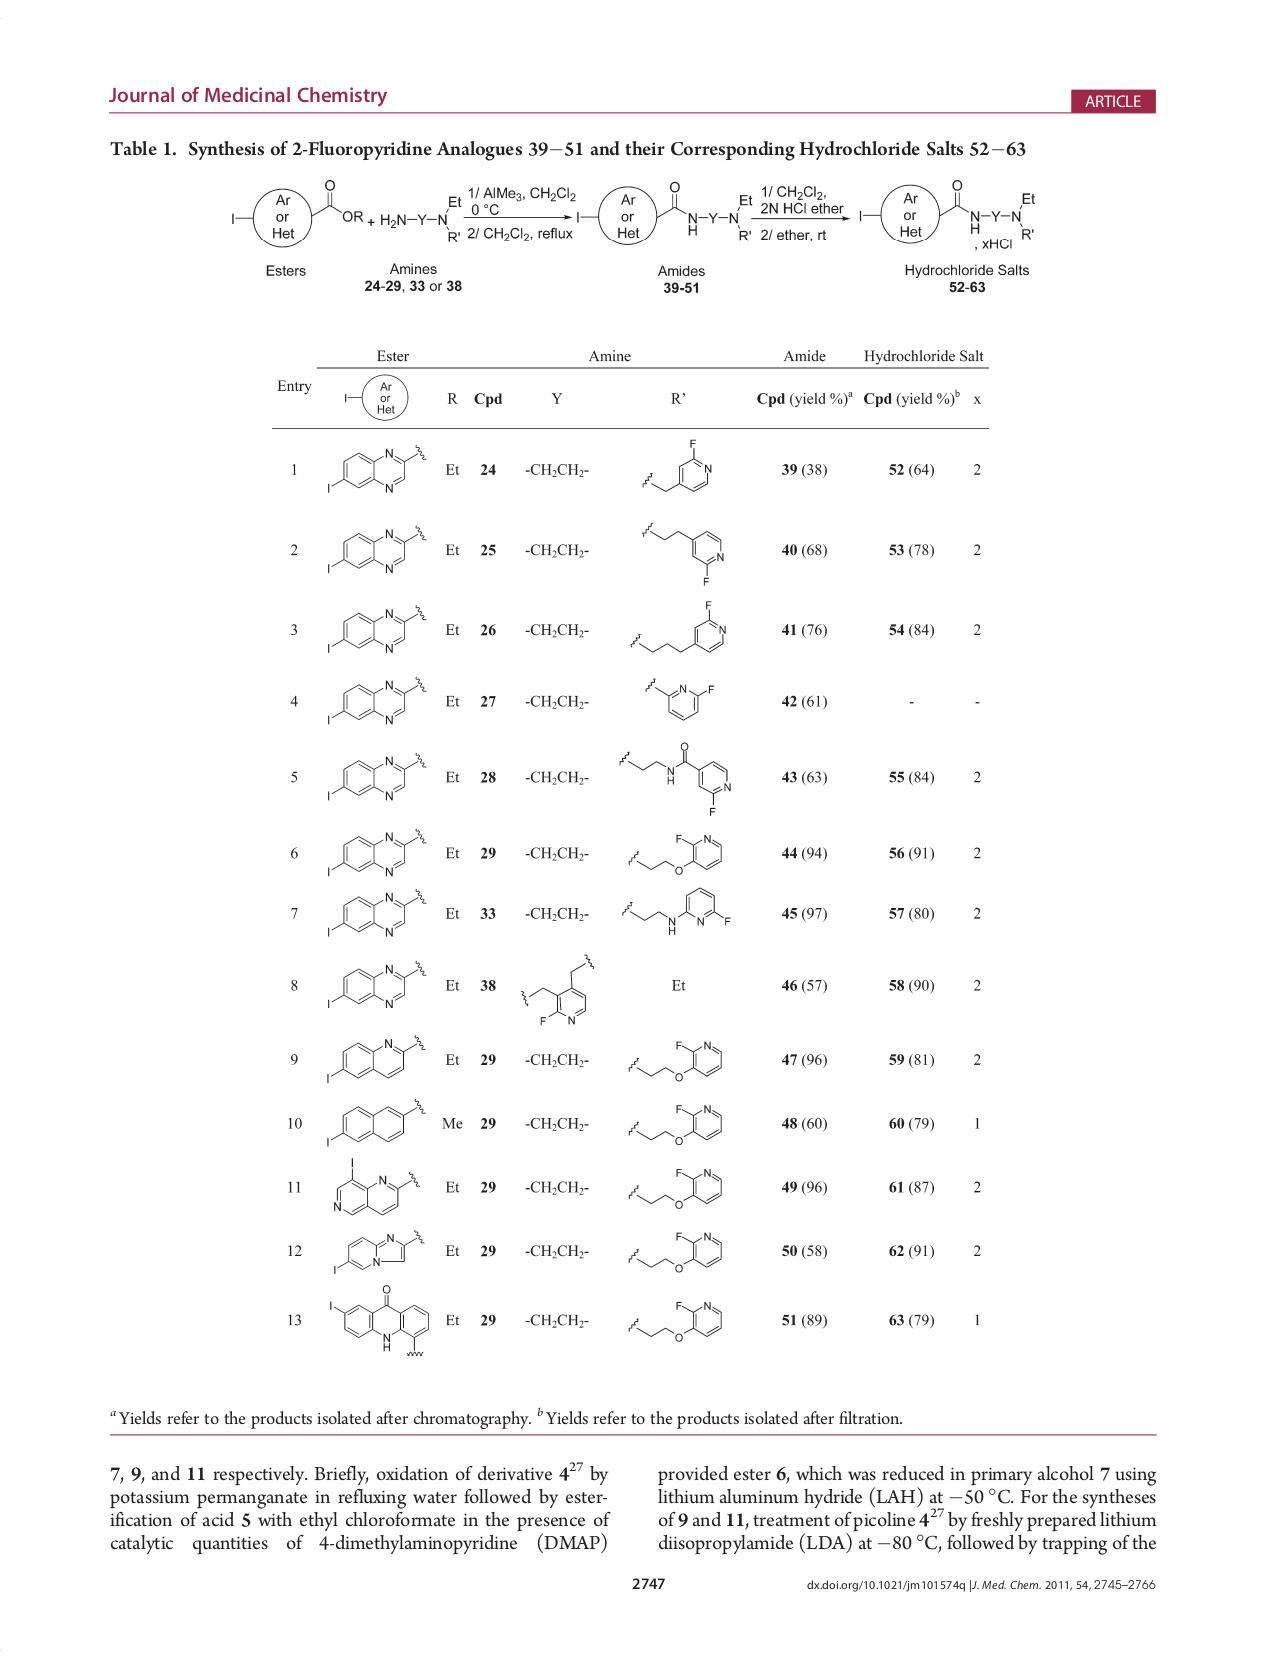exist_molecular: (572, 177, 755, 250), (855, 174, 1039, 243), (229, 176, 366, 250), (614, 739, 731, 823), (328, 1282, 435, 1359), (320, 596, 430, 656), (323, 440, 430, 501), (515, 952, 597, 1031), (330, 1150, 424, 1218), (626, 598, 731, 658), (637, 519, 727, 586), (618, 884, 731, 938), (324, 519, 430, 576), (324, 884, 427, 942), (323, 676, 430, 730), (326, 958, 430, 1012), (322, 1094, 426, 1149), (326, 750, 427, 805), (324, 827, 427, 880), (323, 1032, 426, 1085), (624, 1035, 727, 1087), (625, 1164, 726, 1216), (618, 1098, 727, 1146), (625, 1295, 731, 1343), (625, 829, 726, 878), (625, 1225, 723, 1275), (640, 434, 715, 496), (328, 1227, 426, 1275), (636, 672, 718, 723)
